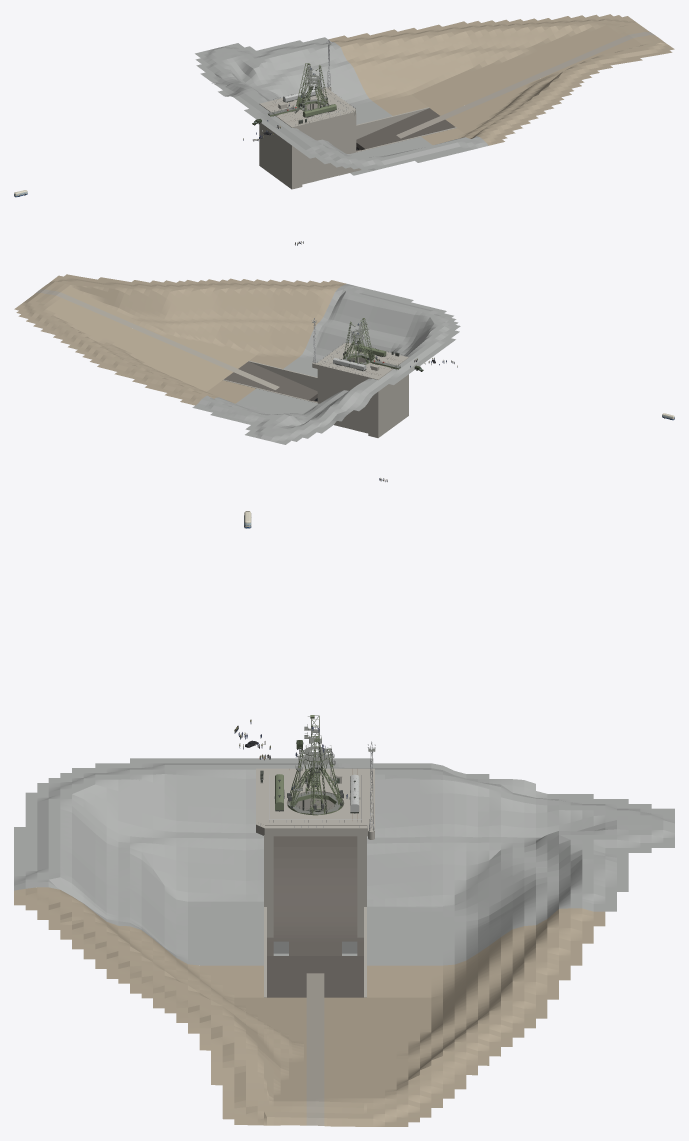
File: pad.lod2.glb
The picture shows the model from 3 angles, top to bottom: view 1: azimuth 30°, elevation 25°; view 2: azimuth 150°, elevation 25°; view 3: azimuth 270°, elevation 25°; orthographic projection. The views are drawn at different scales.
Parts seen in each view (by area): view 1: FlamePit_Earth, FlamePit_Lining, Platform_ConcretePylons, FlamePit_Road, Platform_Concrete, FlamePit_Scorch, FlamePit_ScorchSump; view 2: FlamePit_Earth, FlamePit_Lining, Platform_ConcretePylons, FlamePit_Road, Platform_Concrete, FlamePit_Scorch, FlamePit_ScorchSump; view 3: FlamePit_Lining, FlamePit_Earth, FlameDeflector_Scorch, Platform_Concrete, Platform_ConcretePylons, FlamePit_Scorch, FlamePit_Road, FlamePit_ScorchSump.
Part boxes in pixels (box(x1,y1,x2,y2)): FlamePit_Earth: box(329, 14, 674, 145); FlamePit_Lining: box(195, 37, 488, 170); Platform_ConcretePylons: box(259, 101, 456, 189); FlamePit_Road: box(396, 31, 654, 138); Platform_Concrete: box(270, 86, 355, 128); FlamePit_Scorch: box(356, 108, 455, 151); FlamePit_ScorchSump: box(356, 127, 402, 150); FlamePit_Earth: box(14, 274, 346, 405); FlamePit_Lining: box(192, 284, 460, 444); Platform_ConcretePylons: box(223, 355, 408, 437); FlamePit_Road: box(36, 289, 279, 389); Platform_Concrete: box(312, 343, 396, 380); FlamePit_Scorch: box(224, 361, 317, 402); FlamePit_ScorchSump: box(274, 379, 317, 401); FlamePit_Lining: box(14, 758, 674, 965); FlamePit_Earth: box(14, 887, 605, 1126); FlameDeflector_Scorch: box(267, 836, 363, 941); Platform_Concrete: box(256, 778, 374, 839); Platform_ConcretePylons: box(256, 768, 374, 997); FlamePit_Scorch: box(267, 941, 363, 997); FlamePit_Road: box(306, 973, 324, 1125); FlamePit_ScorchSump: box(267, 956, 363, 973).
Bounding box in the file's own units: 481 × 128 × 228.
